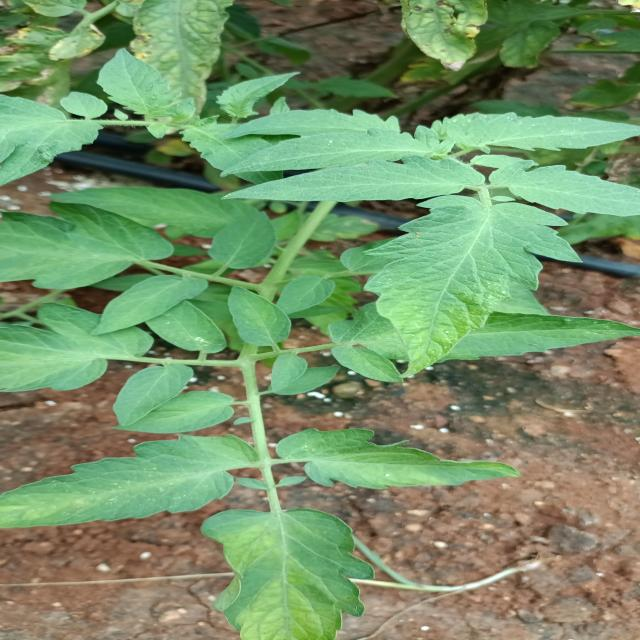Healthy Leaf: (340, 184, 575, 387), (180, 501, 393, 640), (1, 434, 251, 518)
